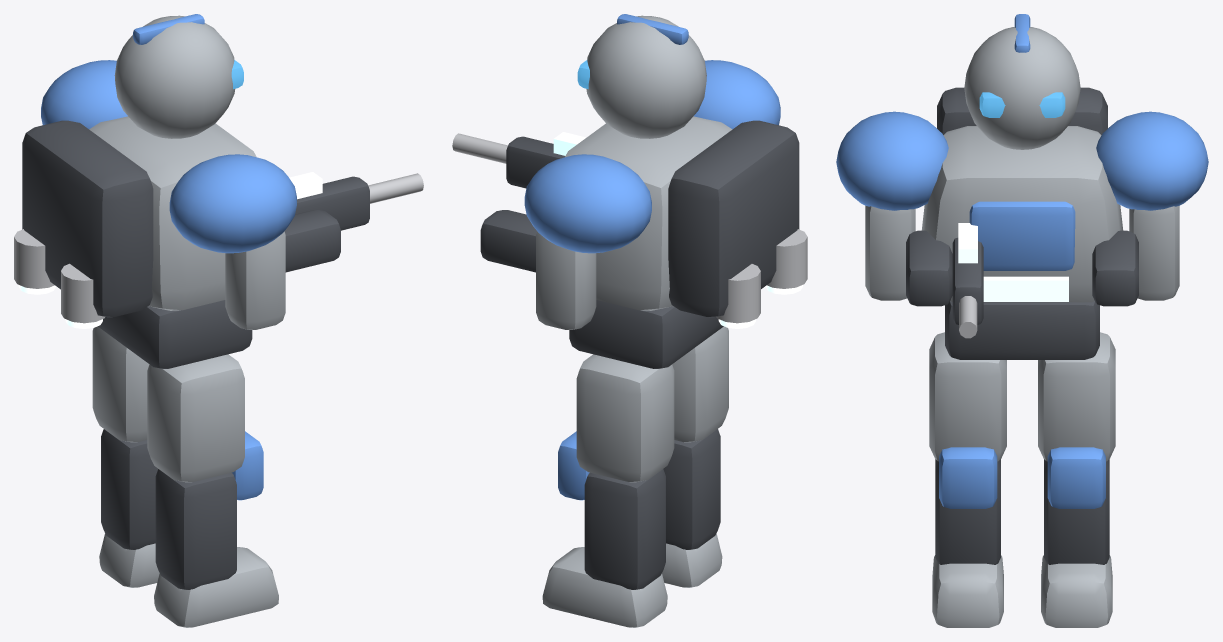
Rendered from hum_rifle.glb.
3 renders of one model, left to right at view 1: azimuth 30°, elevation 25°; view 2: azimuth 150°, elevation 25°; view 3: azimuth 270°, elevation 25°, orthographic.
Parts seen in each view (by area): view 1: torso_m, knee_r_m, leg_r_m, knee_l_m, leg_l_m; view 2: torso_m, knee_l_m, leg_l_m, knee_r_m, leg_r_m; view 3: torso_m, knee_l_m, knee_r_m, leg_l_m, leg_r_m.
Boxes of the visible parts, x1,y1,x2,y2 form: torso_m: (14, 14, 423, 368); knee_r_m: (154, 431, 278, 627); leg_r_m: (147, 354, 244, 482); knee_l_m: (99, 429, 159, 587); leg_l_m: (92, 326, 149, 442); torso_m: (452, 14, 807, 368); knee_l_m: (542, 431, 667, 627); leg_l_m: (576, 354, 674, 482); knee_r_m: (662, 429, 722, 587); leg_r_m: (672, 326, 728, 442); torso_m: (836, 14, 1208, 359); knee_l_m: (1041, 447, 1112, 627); knee_r_m: (932, 447, 1003, 627); leg_l_m: (1038, 332, 1115, 461); leg_r_m: (929, 332, 1006, 461).
Size of the model in its own units: 0.52 by 0.81 by 0.48.
